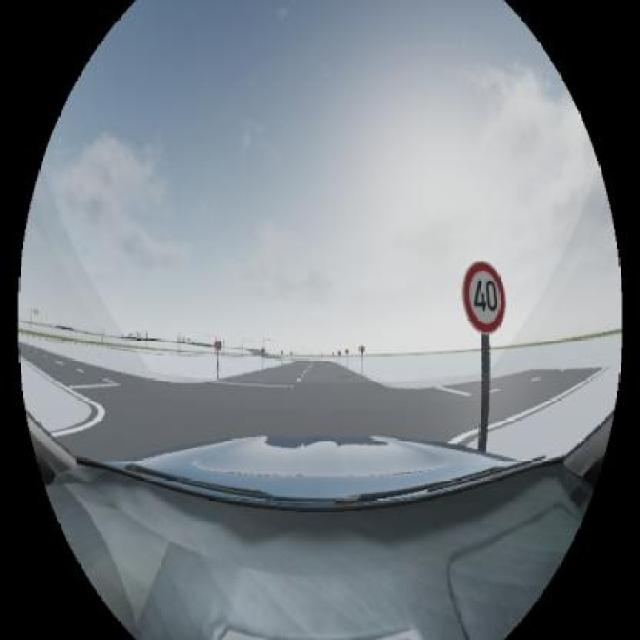forb_speed_over_40: (462, 258, 505, 335)
